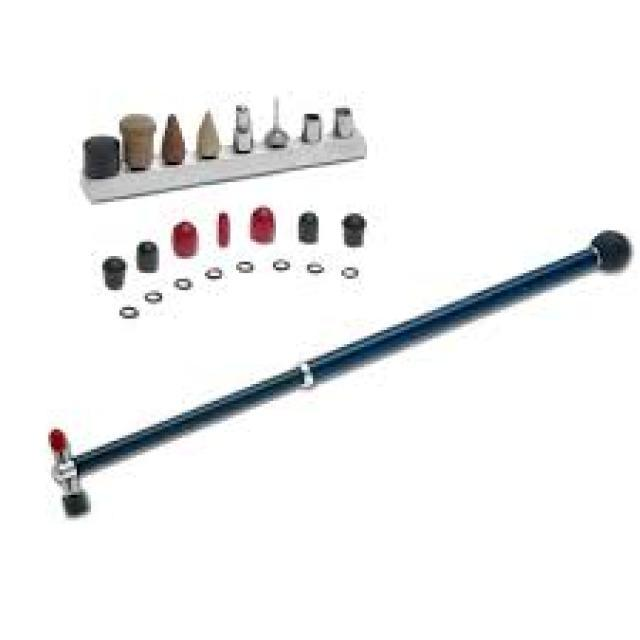Palu: (46, 219, 637, 522)
